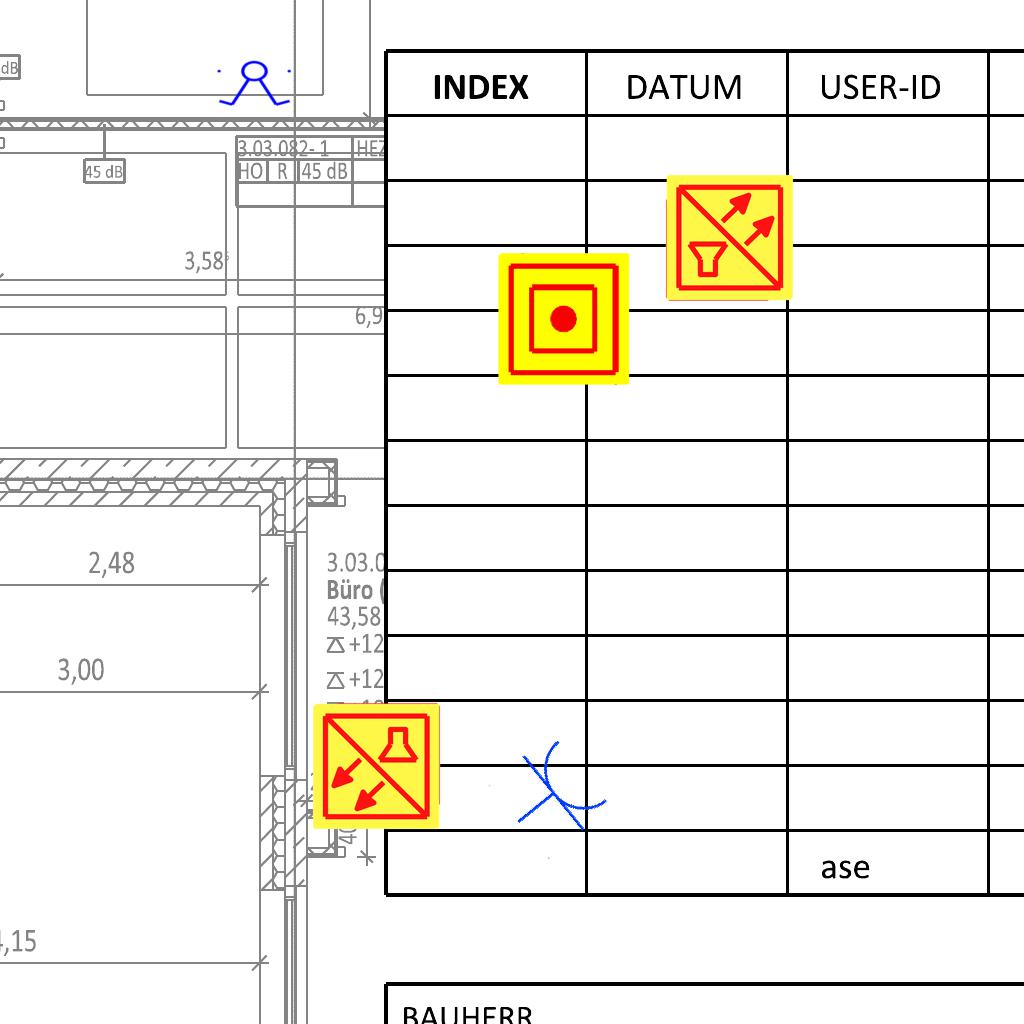NAM-Nichtautomatischer_Melder: (498, 253, 630, 385)
OKW_Multisensormelder_(Kombination_optischer_Rauch-Kahlenmonoxid_Waerme-Melder): (664, 172, 796, 304), (310, 700, 442, 832)
Schukosteckdose_einfach: (486, 729, 618, 862)
Serienschalter: (213, 60, 297, 108)
